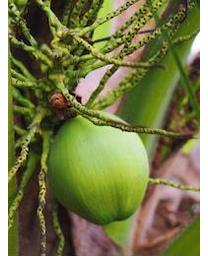coconut: (40, 106, 153, 233)
